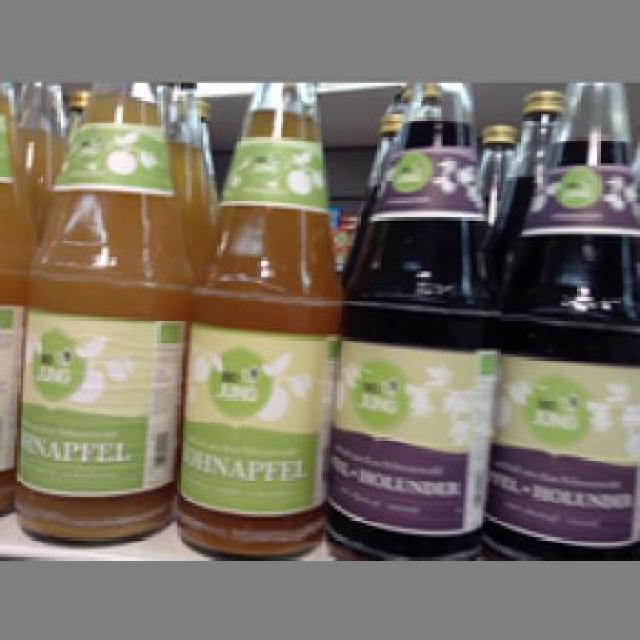Juice: (157, 79, 340, 552), (326, 79, 500, 555), (12, 77, 188, 543), (480, 82, 637, 552)
